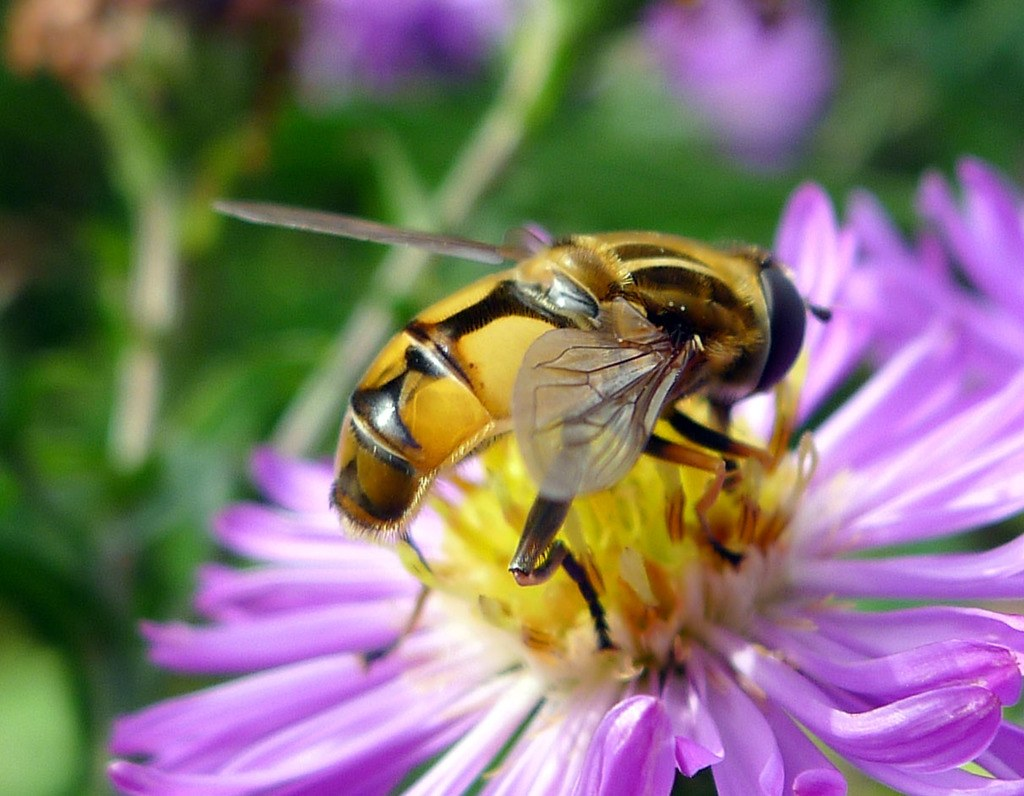bee: (215, 201, 829, 654)
